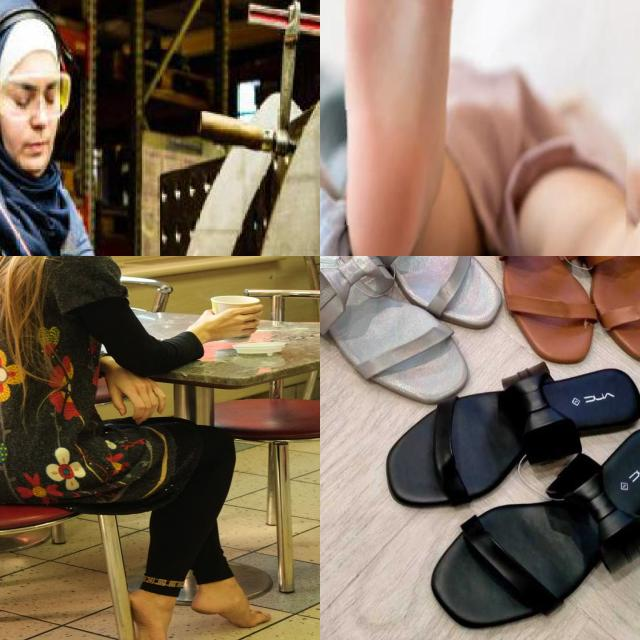Barefoots: (342, 0, 496, 256), (120, 592, 181, 640), (191, 592, 272, 628)
Sandals: (371, 356, 640, 640), (320, 256, 503, 410), (484, 256, 640, 368)
glasses: (0, 71, 76, 122)
head_nohelmet: (0, 0, 88, 178)
person: (0, 0, 131, 256)
